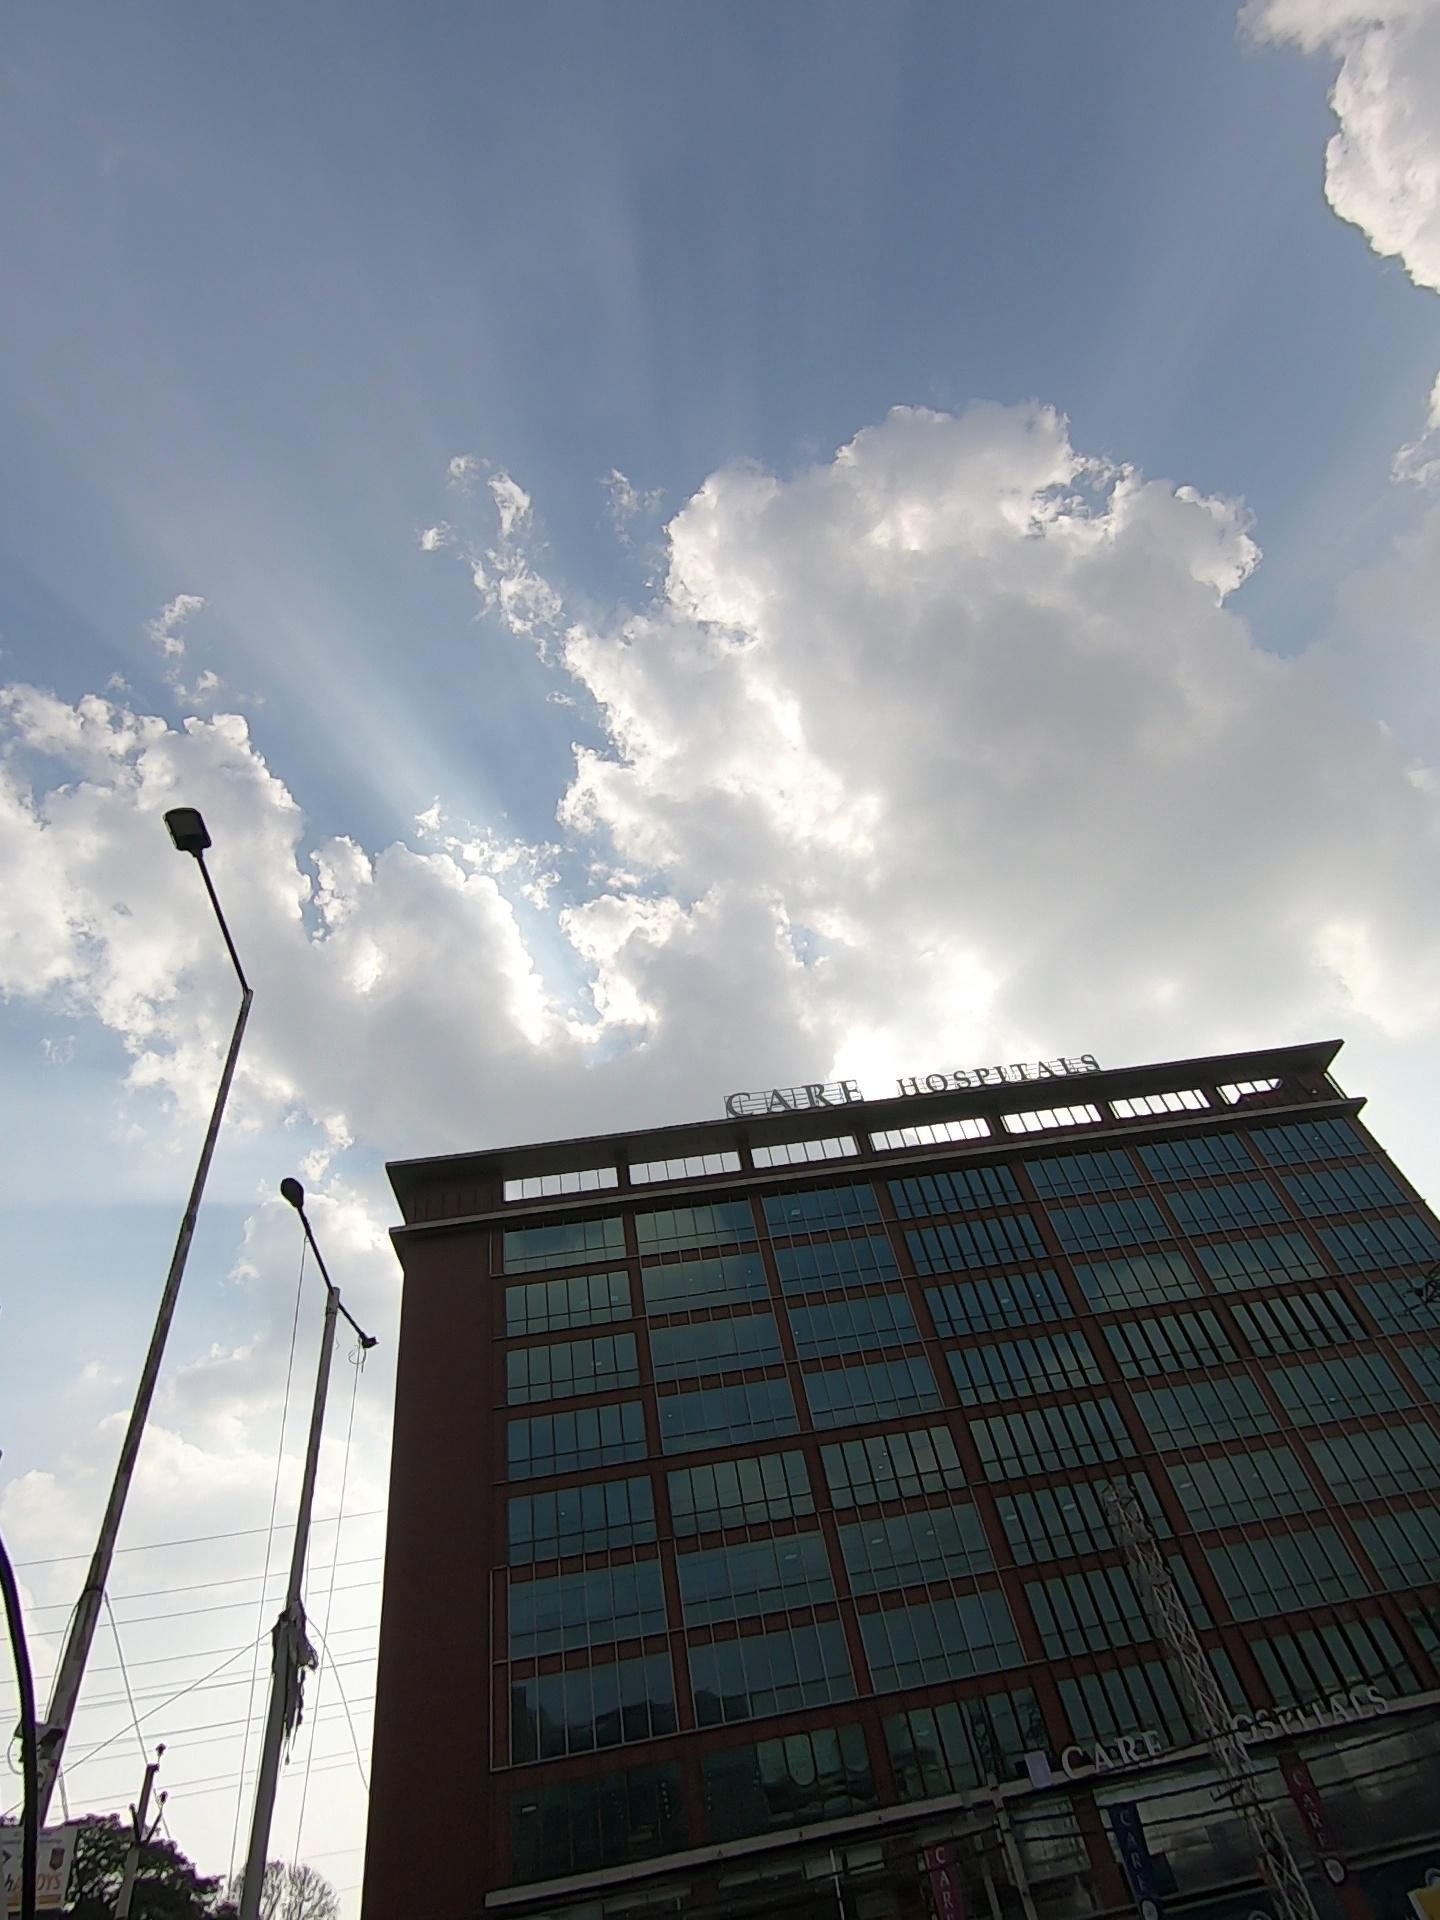off: (110, 801, 319, 1096), (245, 1131, 431, 1364)
